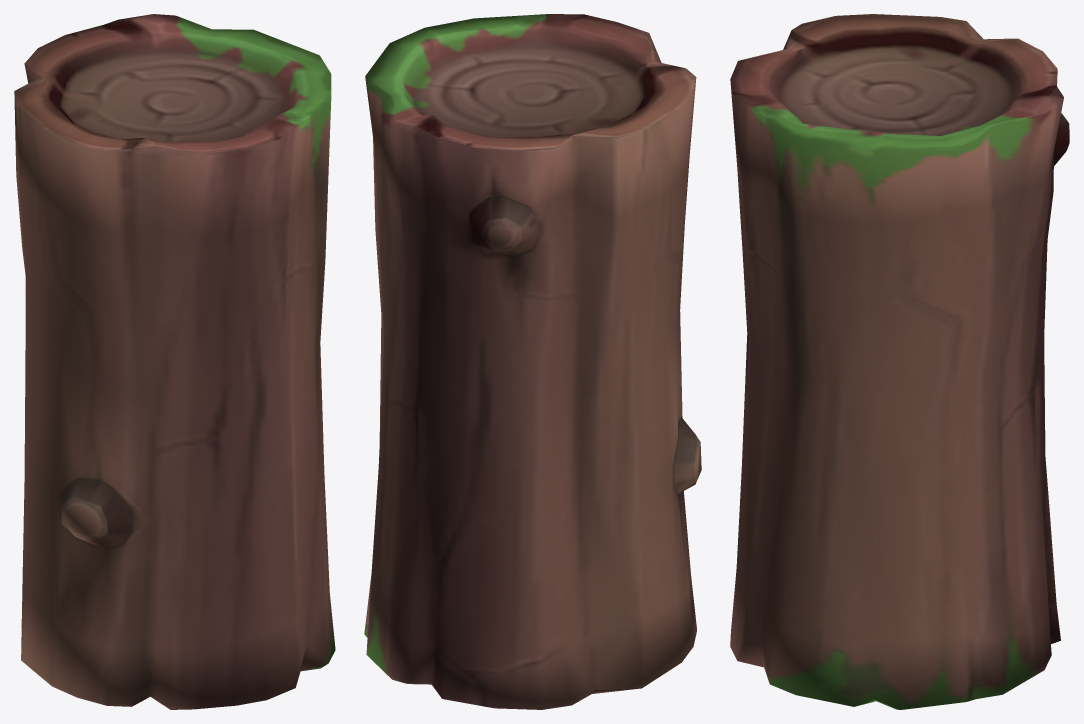
3 renders of one model, left to right at view 1: azimuth 30°, elevation 25°; view 2: azimuth 150°, elevation 25°; view 3: azimuth 270°, elevation 25°, orthographic.
Visible parts, largest first — view 1: mu_01; view 2: mu_01; view 3: mu_01.
Boxes of the visible parts, x1=… form: mu_01: x1=14, y1=14, x2=335, y2=709; mu_01: x1=364, y1=14, x2=701, y2=709; mu_01: x1=730, y1=14, x2=1069, y2=709.
Size of the model in its own units: 1.38 by 2.62 by 1.43.
Materials: 1 (1 with a texture image).
